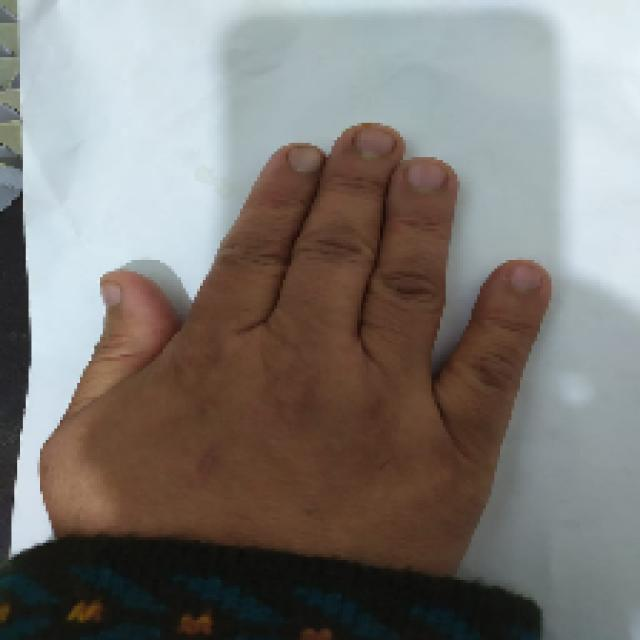Nail: (354, 125, 396, 159), (408, 157, 446, 193), (508, 261, 541, 292), (288, 145, 322, 174), (101, 281, 122, 308)
